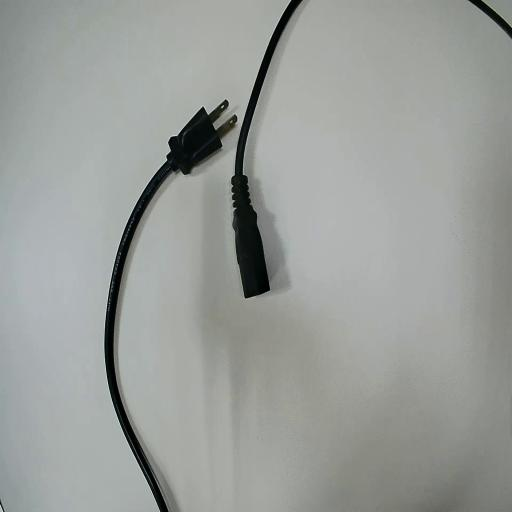wire: (105, 102, 235, 511), (232, 0, 300, 296)
